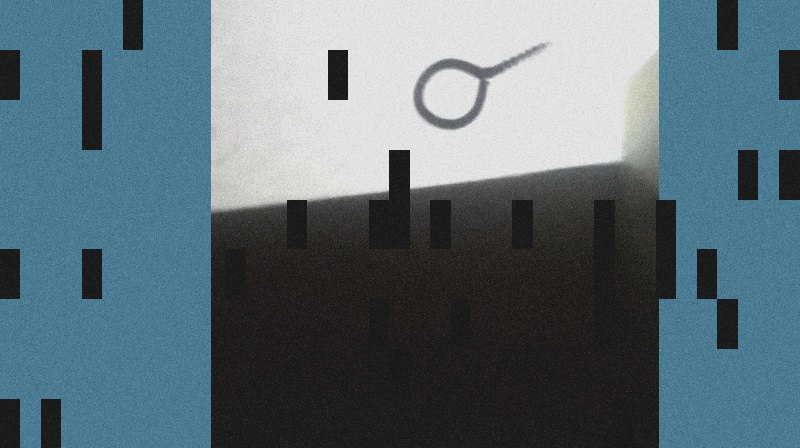O001: (410, 33, 556, 133)
